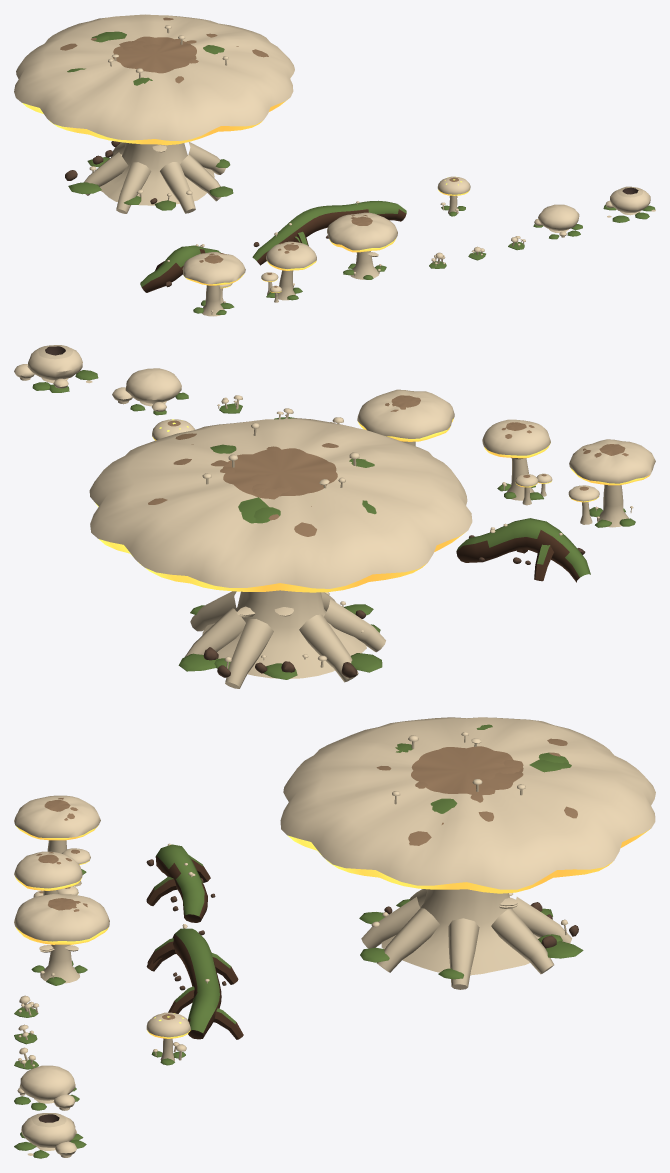
The model's file is kit_mushrooms.glb.
3 views of the same model, one above another, from view 1: azimuth 30°, elevation 25°; view 2: azimuth 150°, elevation 25°; view 3: azimuth 270°, elevation 25° (orthographic). The views are drawn at different scales.
Parts seen in each view (by area): view 1: mushroom_patriarch_cap, mushroom_patriarch, mushroom_big_c, root_ridge_9, mushroom_big_a, mushroom_big_b, root_ridge_5, puffball_b, puffball_a, ring_mushroom; view 2: mushroom_patriarch_cap, mushroom_patriarch, mushroom_big_a, root_ridge_5, mushroom_big_c, mushroom_big_b, puffball_b, puffball_a, ring_mushroom; view 3: mushroom_patriarch_cap, mushroom_patriarch, mushroom_big_c, root_ridge_9, mushroom_big_a, root_ridge_5, mushroom_big_b, puffball_b, puffball_a, ring_mushroom.
Part boxes in pixels (bbox=[...]): mushroom_patriarch_cap: bbox=[14, 14, 294, 145]; mushroom_patriarch: bbox=[65, 141, 233, 213]; mushroom_big_c: bbox=[327, 212, 397, 279]; root_ridge_9: bbox=[252, 200, 406, 265]; mushroom_big_a: bbox=[182, 252, 245, 316]; mushroom_big_b: bbox=[261, 241, 316, 302]; root_ridge_5: bbox=[140, 244, 220, 292]; puffball_b: bbox=[603, 186, 655, 222]; puffball_a: bbox=[533, 204, 582, 239]; ring_mushroom: bbox=[437, 176, 470, 216]; mushroom_patriarch_cap: bbox=[89, 418, 472, 592]; mushroom_patriarch: bbox=[178, 590, 385, 688]; mushroom_big_a: bbox=[568, 439, 655, 527]; root_ridge_5: bbox=[456, 518, 590, 582]; mushroom_big_c: bbox=[357, 389, 454, 446]; mushroom_big_b: bbox=[482, 419, 552, 505]; puffball_b: bbox=[14, 345, 98, 392]; puffball_a: bbox=[112, 368, 188, 415]; ring_mushroom: bbox=[152, 419, 195, 440]; mushroom_patriarch_cap: bbox=[280, 717, 655, 893]; mushroom_patriarch: bbox=[359, 889, 583, 989]; mushroom_big_c: bbox=[14, 894, 109, 985]; root_ridge_9: bbox=[146, 924, 243, 1039]; mushroom_big_a: bbox=[14, 795, 100, 886]; root_ridge_5: bbox=[146, 843, 215, 922]; mushroom_big_b: bbox=[14, 851, 82, 897]; puffball_b: bbox=[14, 1113, 86, 1158]; puffball_a: bbox=[14, 1065, 79, 1110]; ring_mushroom: bbox=[146, 1012, 190, 1065].
Bounding box in the file's own units: 27.61 × 8.14 × 24.49.
